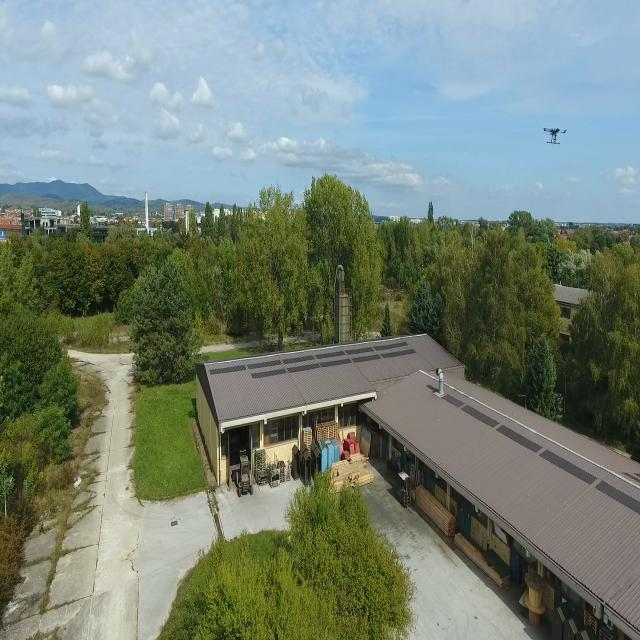UAV: (537, 122, 569, 152)
